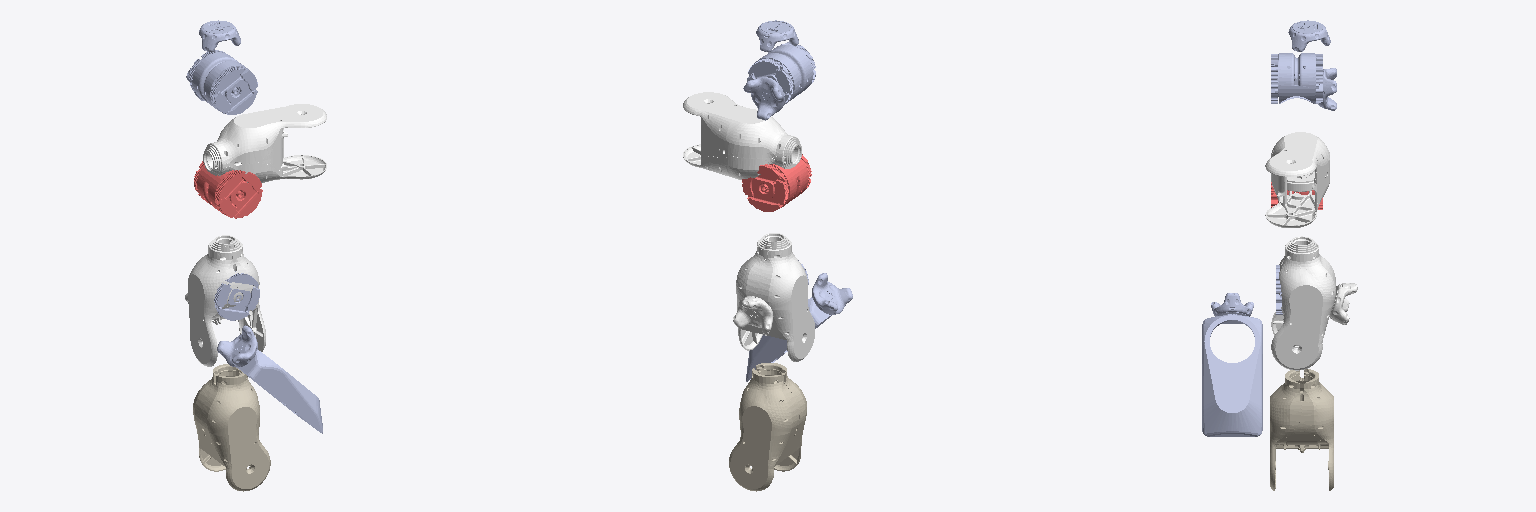
robot.urdf — koko_description_sevendof_dyn:
<robot
  name="koko_description_sevendof_dyn">
  <link
    name="base_link">
    <inertial>
      <origin
        xyz="0.0560024374186662 0.000189445541681321 0.0201835602327798"
        rpy="0 0 0" />
      <mass
        value="0.284612172465311" />
      <inertia
        ixx="0.000716950374478633"
        ixy="-4.58477843167981E-06"
        ixz="4.20772050305934E-06"
        iyy="0.00197711566495113"
        iyz="9.13561852910017E-07"
        izz="0.00239705630031167" />
    </inertial>
    <visual>
      <origin
        xyz="0 0 0"
        rpy="0 0 0" />
      <geometry>
        <mesh
          filename="package://koko_description_sevendof_dyn/meshes/base_link.STL" />
      </geometry>
      <material
        name="">
        <color
          rgba="0.792156862745098 0.819607843137255 0.933333333333333 1" />
      </material>
    </visual>
    <collision>
      <origin
        xyz="0 0 0"
        rpy="0 0 0" />
      <geometry>
        <mesh
          filename="package://koko_description_sevendof_dyn/meshes/base_link.STL" />
      </geometry>
    </collision>
  </link>
  <link
    name="shoulder_link">
    <inertial>
      <origin
        xyz="0.0043477541389173 2.01234773878345E-05 -0.0764683318824377"
        rpy="0 0 0" />
      <mass
        value="1.90901122392276" />
      <inertia
        ixx="0.0091937456982913"
        ixy="1.27362263865398E-08"
        ixz="0.00010247865043886"
        iyy="0.00871917388181738"
        iyz="3.26622166777351E-06"
        izz="0.00388062453070139" />
    </inertial>
    <visual>
      <origin
        xyz="0 0 0"
        rpy="0 0 0" />
      <geometry>
        <mesh
          filename="package://koko_description_sevendof_dyn/meshes/shoulder_link.STL" />
      </geometry>
      <material
        name="">
        <color
          rgba="0.843137254901961 0.815686274509804 0.752941176470588 1" />
      </material>
    </visual>
    <collision>
      <origin
        xyz="0 0 0"
        rpy="0 0 0" />
      <geometry>
        <mesh
          filename="package://koko_description_sevendof_dyn/meshes/shoulder_link.STL" />
      </geometry>
    </collision>
  </link>
  <joint
    name="base_roll_joint"
    type="revolute">
    <origin
      xyz="0 0 0.054356"
      rpy="3.1416 -2.2011E-29 0.0" />
    <parent
      link="base_link" />
    <child
      link="shoulder_link" />
    <axis
      xyz="0 0 1" />
    <limit
      lower="-3.3999"
      upper="2.3412"
      effort="0"
      velocity="0" />
  </joint>
  <link
    name="shoulder_lift_link">
    <inertial>
      <origin
        xyz="-5.0083559080677E-06 0.000232928456050885 -1.77451392545103E-05"
        rpy="0 0 0" />
      <mass
        value="0.488307108622636" />
      <inertia
        ixx="0.000804272985961788"
        ixy="4.84548777859872E-08"
        ixz="2.09160815704306E-06"
        iyy="0.000818260636171894"
        iyz="-1.44954778549764E-08"
        izz="0.000550840705045094" />
    </inertial>
    <visual>
      <origin
        xyz="0 0 0"
        rpy="0 0 0" />
      <geometry>
        <mesh
          filename="package://koko_description_sevendof_dyn/meshes/shoulder_lift_link.STL" />
      </geometry>
      <material
        name="">
        <color
          rgba="0.792156862745098 0.819607843137255 0.933333333333333 1" />
      </material>
    </visual>
    <collision>
      <origin
        xyz="0 0 0"
        rpy="0 0 0" />
      <geometry>
        <mesh
          filename="package://koko_description_sevendof_dyn/meshes/shoulder_lift_link.STL" />
      </geometry>
    </collision>
  </link>
  <joint
    name="shoulder_lift_joint"
    type="revolute">
    <origin
      xyz="-0.01143 0 -0.21082"
      rpy="-1.5708 4.4409E-16 3.1416" />
    <parent
      link="shoulder_link" />
    <child
      link="shoulder_lift_link" />
    <axis
      xyz="0 0 1" />
    <limit
      lower="-2.2944"
      upper="0"
      effort="0"
      velocity="0" />
  </joint>
  <link
    name="upper_arm_link">
    <inertial>
      <origin
        xyz="0.0052656488201055 5.32997221069781E-05 -0.0641725544925586"
        rpy="0 0 0" />
      <mass
        value="1.92396434922939" />
      <inertia
        ixx="0.00578789299599043"
        ixy="1.90247522695056E-06"
        ixz="-6.31088143287672E-05"
        iyy="0.00530315640050716"
        iyz="1.26895335190205E-06"
        izz="0.00342501474546171" />
    </inertial>
    <visual>
      <origin
        xyz="0 0 0"
        rpy="0 0 0" />
      <geometry>
        <mesh
          filename="package://koko_description_sevendof_dyn/meshes/upper_arm_link.STL" />
      </geometry>
      <material
        name="">
        <color
          rgba="1 1 1 1" />
      </material>
    </visual>
    <collision>
      <origin
        xyz="0 0 0"
        rpy="0 0 0" />
      <geometry>
        <mesh
          filename="package://koko_description_sevendof_dyn/meshes/upper_arm_link.STL" />
      </geometry>
    </collision>
  </link>
  <joint
    name="shoulder_roll_joint"
    type="revolute">
    <origin
      xyz="0 0.070147 -6.25E-05"
      rpy="-1.5708 -1.5673 -3.1416" />
    <parent
      link="shoulder_lift_link" />
    <child
      link="upper_arm_link" />
    <axis
      xyz="0 0 1" />
    <limit
      lower="-2.6761"
      upper="2.6761"
      effort="0"
      velocity="0" />
  </joint>
  <link
    name="upper_arm_lift_link">
    <inertial>
      <origin
        xyz="9.06307628945058E-09 -0.00233330219603445 -1.63700112519316E-05"
        rpy="0 0 0" />
      <mass
        value="0.436087767400233" />
      <inertia
        ixx="0.000748389205107341"
        ixy="-4.35589119855736E-12"
        ixz="2.09357080801154E-06"
        iyy="0.00080505708271284"
        iyz="-3.61399621116489E-08"
        izz="0.000495723704552229" />
    </inertial>
    <visual>
      <origin
        xyz="0 0 0"
        rpy="0 0 0" />
      <geometry>
        <mesh
          filename="package://koko_description_sevendof_dyn/meshes/upper_arm_lift_link.STL" />
      </geometry>
      <material
        name="">
        <color
          rgba="1 0.501960784313725 0.501960784313725 1" />
      </material>
    </visual>
    <collision>
      <origin
        xyz="0 0 0"
        rpy="0 0 0" />
      <geometry>
        <mesh
          filename="package://koko_description_sevendof_dyn/meshes/upper_arm_lift_link.STL" />
      </geometry>
    </collision>
  </link>
  <joint
    name="elbow_lift_joint"
    type="revolute">
    <origin
      xyz="-0.01143 -4.0407E-05 -0.18056"
      rpy="-1.5708 -8.5189E-16 -3.1381" />
    <parent
      link="upper_arm_link" />
    <child
      link="upper_arm_lift_link" />
    <axis
      xyz="0 0 1" />
    <limit
      lower="-2.2944"
      upper="0"
      effort="0"
      velocity="0" />
  </joint>
  <link
    name="forearm_link">
    <inertial>
      <origin
        xyz="0.00526385736219506 2.70691865020822E-05 -0.0641638075944594"
        rpy="0 0 0" />
      <mass
        value="1.42367945216034" />
      <inertia
        ixx="0.0057866591250737"
        ixy="3.71515699629511E-07"
        ixz="-6.32890111626103E-05"
        iyy="0.00530223654324281"
        iyz="8.9999884666805E-07"
        izz="0.00342399181200673" />
    </inertial>
    <visual>
      <origin
        xyz="0 0 0"
        rpy="0 0 0" />
      <geometry>
        <mesh
          filename="package://koko_description_sevendof_dyn/meshes/forearm_link.STL" />
      </geometry>
      <material
        name="">
        <color
          rgba="1 1 1 1" />
      </material>
    </visual>
    <collision>
      <origin
        xyz="0 0 0"
        rpy="0 0 0" />
      <geometry>
        <mesh
          filename="package://koko_description_sevendof_dyn/meshes/forearm_link.STL" />
      </geometry>
    </collision>
  </link>
  <joint
    name="elbow_roll_joint"
    type="revolute">
    <origin
      xyz="0 0.070147 -6.25E-05"
      rpy="1.5708 1.5708 0" />
    <parent
      link="upper_arm_lift_link" />
    <child
      link="forearm_link" />
    <axis
      xyz="0 0 1" />
    <limit
      lower="-2.6761"
      upper="2.6761"
      effort="0"
      velocity="0" />
  </joint>
  <link
    name="wrist_lift_link">
    <inertial>
      <origin
        xyz="-5.0041305142412E-06 0.000232915126013089 -1.77452141933987E-05"
        rpy="0 0 0" />
      <mass
        value="0.488307111315058" />
      <inertia
        ixx="0.000804244148456861"
        ixy="4.84475098854999E-08"
        ixz="2.09169561517307E-06"
        iyy="0.00081823161778444"
        iyz="-1.44597555369205E-08"
        izz="0.000550840502999506" />
    </inertial>
    <visual>
      <origin
        xyz="0 0 0"
        rpy="0 0 0" />
      <geometry>
        <mesh
          filename="package://koko_description_sevendof_dyn/meshes/wrist_lift_link.STL" />
      </geometry>
      <material
        name="">
        <color
          rgba="0.792156862745098 0.819607843137255 0.933333333333333 1" />
      </material>
    </visual>
    <collision>
      <origin
        xyz="0 0 0"
        rpy="0 0 0" />
      <geometry>
        <mesh
          filename="package://koko_description_sevendof_dyn/meshes/wrist_lift_link.STL" />
      </geometry>
    </collision>
  </link>
  <joint
    name="wrist_lift_joint"
    type="revolute">
    <origin
      xyz="-0.01143 0 -0.18056"
      rpy="-1.5708 6.6613E-16 -3.1416" />
    <parent
      link="forearm_link" />
    <child
      link="wrist_lift_link" />
    <axis
      xyz="0 0 1" />
    <limit
      lower="-2.2944"
      upper="0"
      effort="0"
      velocity="0" />
  </joint>
  <link
    name="wrist_roll_link">
    <inertial>
      <origin
        xyz="-7.00549073506807E-05 2.51271935254316E-05 0.052367118189184"
        rpy="0 0 0" />
      <mass
        value="0.657109755986862" />
      <inertia
        ixx="0.001916887873826385"
        ixy="-12.04547948818479E-08"
        ixz="2.8796133363069E-06"
        iyy="0.001877268801166351"
        iyz="9.64172907801915E-07"
        izz="0.000693333065172452" />
    </inertial>
    <visual>
      <origin
        xyz="0 0 0.1"
        rpy="0 0 0" />
      <geometry>
        <mesh
          filename="package://koko_description_sevendof_dyn/meshes/wrist_roll_link.STL" />
      </geometry>
      <material
        name="">
        <color
          rgba="0.792156862745098 0.819607843137255 0.933333333333333 1" />
      </material>
    </visual>
    <collision>
      <origin
        xyz="0 0 0.1"
        rpy="0 0 0" />
      <geometry>
        <mesh
          filename="package://koko_description_sevendof_dyn/meshes/wrist_roll_link.STL" />
      </geometry>
    </collision>
  </link>
  <joint
    name="wrist_roll_joint"
    type="revolute">
    <origin
      xyz="0 0.170147 -6.25E-05"
      rpy="-1.5708 -2.4803E-15 -3.1416" />
    <parent
      link="wrist_lift_link" />
    <child
      link="wrist_roll_link" />
    <axis
      xyz="0 0 1" />
    <limit
      lower="-2.6761"
      upper="2.6761"
      effort="0"
      velocity="0" />
  </joint>

  <link
    name="gripper_link">
    <inertial>
      <origin
        xyz="-7.00549073506807E-05 2.51271935254316E-05 -0.052367118189184"
        rpy="0 0 0" />
      <mass
        value="0.0047109755986862" />
      <inertia
        ixx="0.000916887873826385"
        ixy="-6.04547948818479E-08"
        ixz="0.6796133363069E-06"
        iyy="0.000877268801166351"
        iyz="0.64172907801915E-07"
        izz="0.000293333065172452" />
    </inertial>
    <visual>
      <origin
        xyz="0 0 0"
        rpy="0 0 0" />
      <geometry>
        <mesh
          filename="package://koko_description_sevendof_dyn/meshes/wrist_roll_link.STL" />
      </geometry>
      <material
        name="">
        <color
          rgba="0.792156862745098 0.819607843137255 0.933333333333333 1" />
      </material>
    </visual>
    <collision>
      <origin
        xyz="0 0 0"
        rpy="0 0 0" />
      <geometry>
        <mesh
          filename="package://koko_description_sevendof_dyn/meshes/wrist_roll_link.STL" />
      </geometry>
    </collision>
  </link>
  <joint
    name="gripper_joint"
    type="revolute">
    <origin
      xyz="0 0.070147 -6.25E-05"
      rpy="-1.5708 -2.4803E-15 -3.1416" />
    <parent
      link="wrist_roll_link" />
    <child
      link="gripper_link" />
    <axis
      xyz="0 0 1" />
    <limit
      lower="-2.6761"
      upper="2.6761"
      effort="0"
      velocity="0" />
  </joint>
</robot>

--- What the picture shows (computed from the rendered views, not written in the file) ---
The picture shows the robot from 3 angles, left to right: view 1: azimuth 30°, elevation 25°; view 2: azimuth 150°, elevation 25°; view 3: azimuth 270°, elevation 25°; orthographic projection.
Robot: koko_description_sevendof_dyn — 9 links, 8 joints (8 revolute); root link base_link; default pose: every joint at zero.
Visible links, largest first — view 1: shoulder_link, forearm_link, upper_arm_link, base_link, wrist_lift_link, upper_arm_lift_link, shoulder_lift_link, gripper_link; view 2: upper_arm_link, shoulder_link, forearm_link, upper_arm_lift_link, wrist_lift_link, base_link, wrist_roll_link, gripper_link; view 3: upper_arm_link, base_link, shoulder_link, forearm_link, wrist_lift_link, gripper_link, wrist_roll_link.
Link boxes in pixels (x1=…): shoulder_link: x1=193, y1=364, x2=270, y2=491; forearm_link: x1=203, y1=104, x2=326, y2=182; upper_arm_link: x1=185, y1=235, x2=265, y2=366; base_link: x1=217, y1=325, x2=322, y2=433; wrist_lift_link: x1=189, y1=50, x2=257, y2=114; upper_arm_lift_link: x1=194, y1=161, x2=262, y2=218; shoulder_lift_link: x1=214, y1=271, x2=259, y2=320; gripper_link: x1=199, y1=20, x2=240, y2=51; upper_arm_link: x1=733, y1=233, x2=814, y2=361; shoulder_link: x1=729, y1=363, x2=806, y2=491; forearm_link: x1=683, y1=92, x2=801, y2=179; upper_arm_lift_link: x1=742, y1=154, x2=811, y2=211; wrist_lift_link: x1=747, y1=42, x2=815, y2=104; base_link: x1=746, y1=273, x2=852, y2=381; wrist_roll_link: x1=743, y1=77, x2=784, y2=120; gripper_link: x1=756, y1=20, x2=798, y2=52; upper_arm_link: x1=1271, y1=236, x2=1357, y2=370; base_link: x1=1202, y1=293, x2=1262, y2=436; shoulder_link: x1=1270, y1=369, x2=1333, y2=490; forearm_link: x1=1265, y1=132, x2=1329, y2=227; wrist_lift_link: x1=1271, y1=53, x2=1322, y2=103; gripper_link: x1=1288, y1=20, x2=1330, y2=51; wrist_roll_link: x1=1318, y1=68, x2=1336, y2=110.
Bounding box of the posed robot: 0.3229 × 0.3378 × 1.09 m (x, y, z).
Meshes: 8 distinct files referenced, 9 mesh visuals loaded (8 binary STL).
